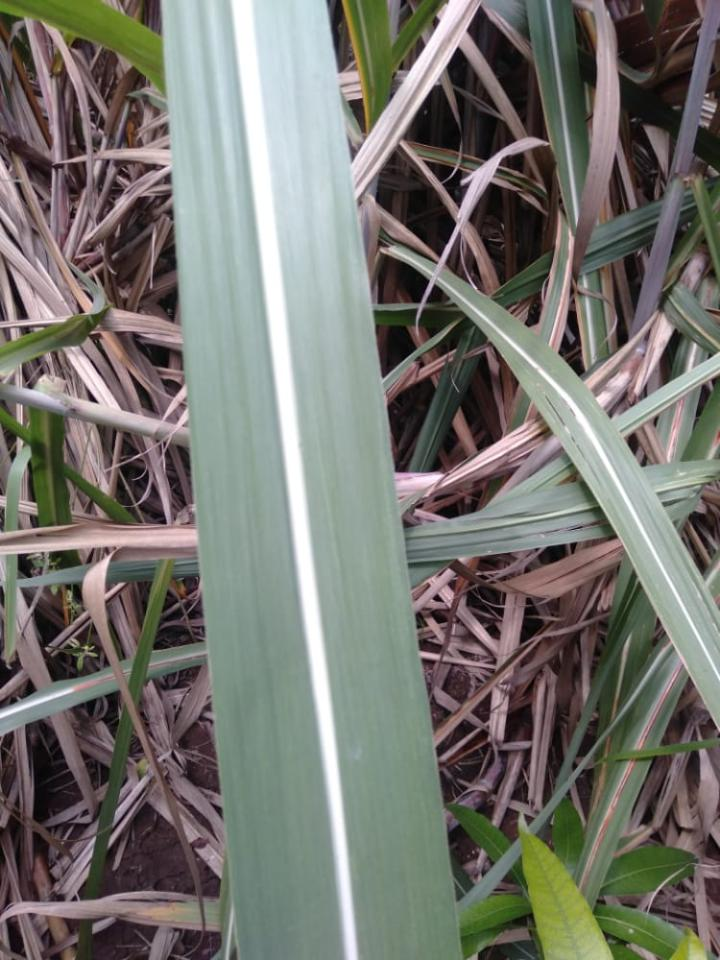Healthy: (163, 0, 464, 959)
RedRot: (580, 759, 638, 892), (637, 660, 684, 750), (149, 654, 201, 669), (669, 398, 684, 450), (73, 675, 115, 691), (715, 432, 719, 447), (123, 671, 130, 676)
Yellow: (341, 0, 371, 138)
